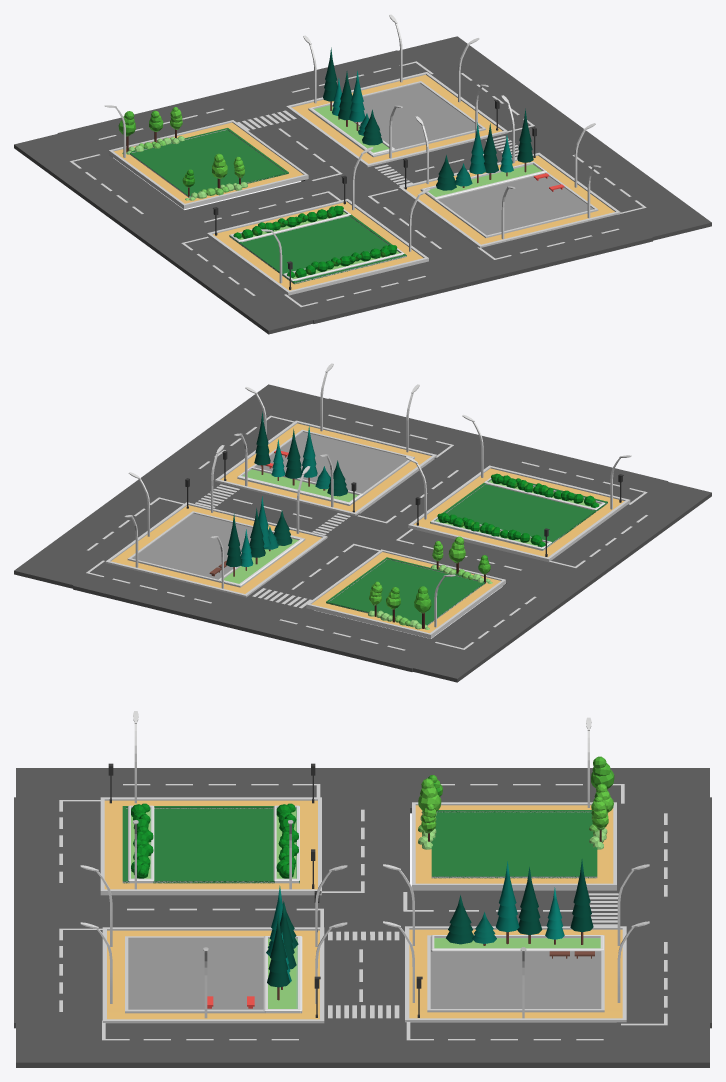
File: strada.fbx
The picture shows the model from 3 angles, top to bottom: view 1: azimuth 30°, elevation 25°; view 2: azimuth 150°, elevation 25°; view 3: azimuth 270°, elevation 25°; orthographic projection. The views are drawn at different scales.
Visible parts, largest first — view 1: Floor_3; view 2: Floor_3; view 3: Floor_3.
Boxes of the visible parts, bbox=[...] form: Floor_3: bbox=[14, 14, 711, 334]; Floor_3: bbox=[14, 363, 711, 682]; Floor_3: bbox=[14, 711, 711, 1067].
Size of the model in its own units: 2192 by 332 by 2192.
